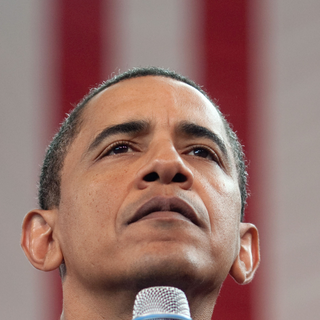eye: (177, 140, 225, 167), (96, 141, 145, 159)
